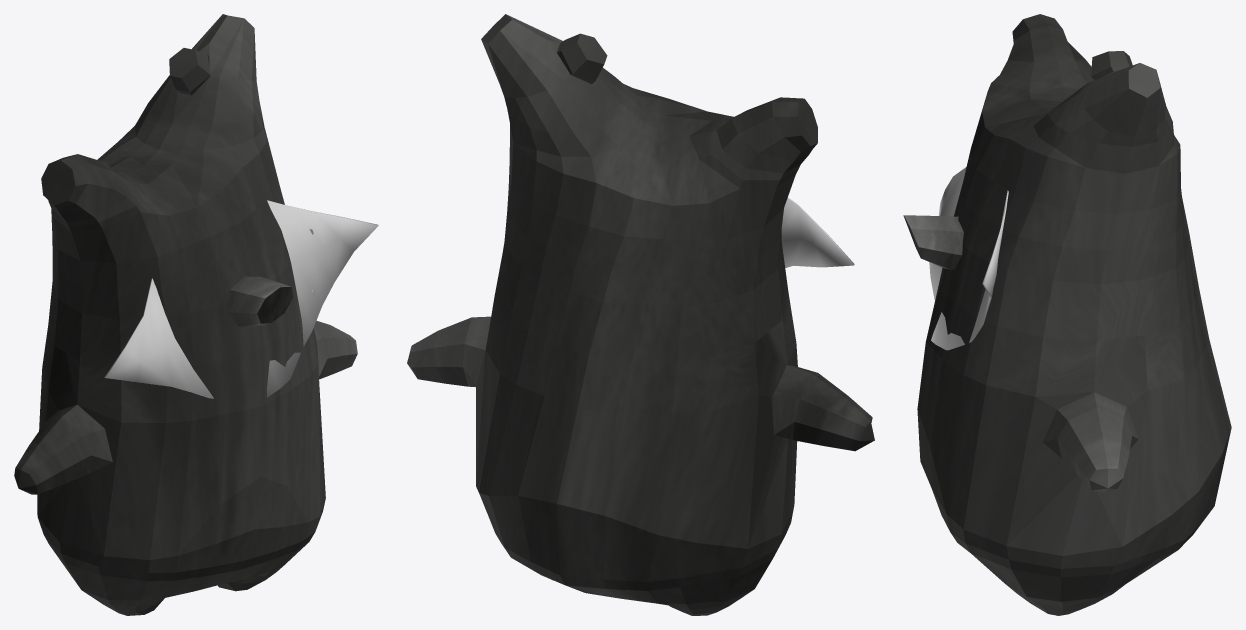
File: frame_0035.obj
3 views of the same model, side by side, from view 1: azimuth 30°, elevation 25°; view 2: azimuth 150°, elevation 25°; view 3: azimuth 270°, elevation 25° (orthographic). The views are drawn at different scales.
Visible parts, largest first — view 1: korok, leaf, nose; view 2: korok, leaf; view 3: korok, leaf, nose.
Boxes of the visible parts, x1,y1,x2,y2 form: korok: [14, 14, 357, 615]; leaf: [104, 200, 378, 398]; nose: [226, 276, 292, 326]; korok: [407, 14, 874, 615]; leaf: [781, 197, 854, 267]; korok: [917, 14, 1231, 615]; leaf: [929, 167, 1008, 350]; nose: [903, 215, 963, 269].
Bounding box in the file's own units: 1.71 × 2.3 × 1.21.
